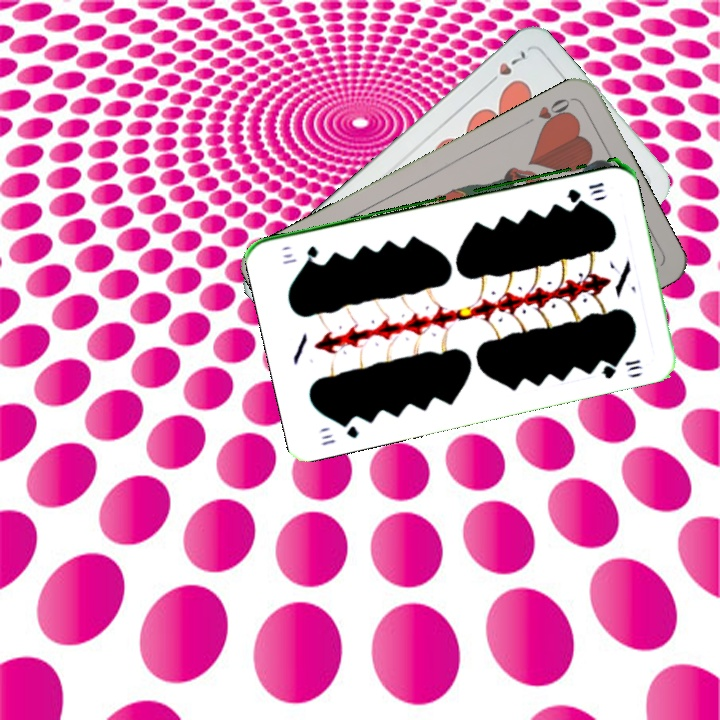G10: (317, 415, 362, 448), (563, 178, 606, 203)
H7: (482, 46, 532, 89)
HO: (520, 94, 574, 131)
